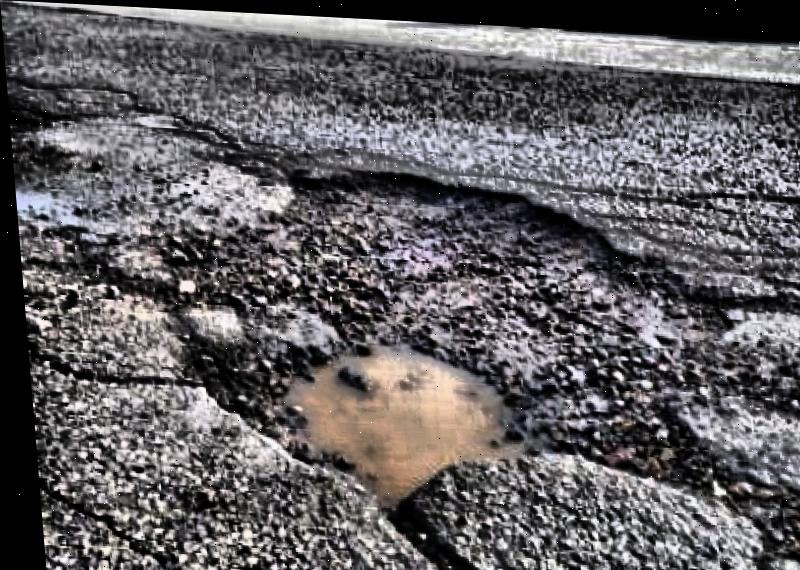pothole: (150, 135, 748, 564)
